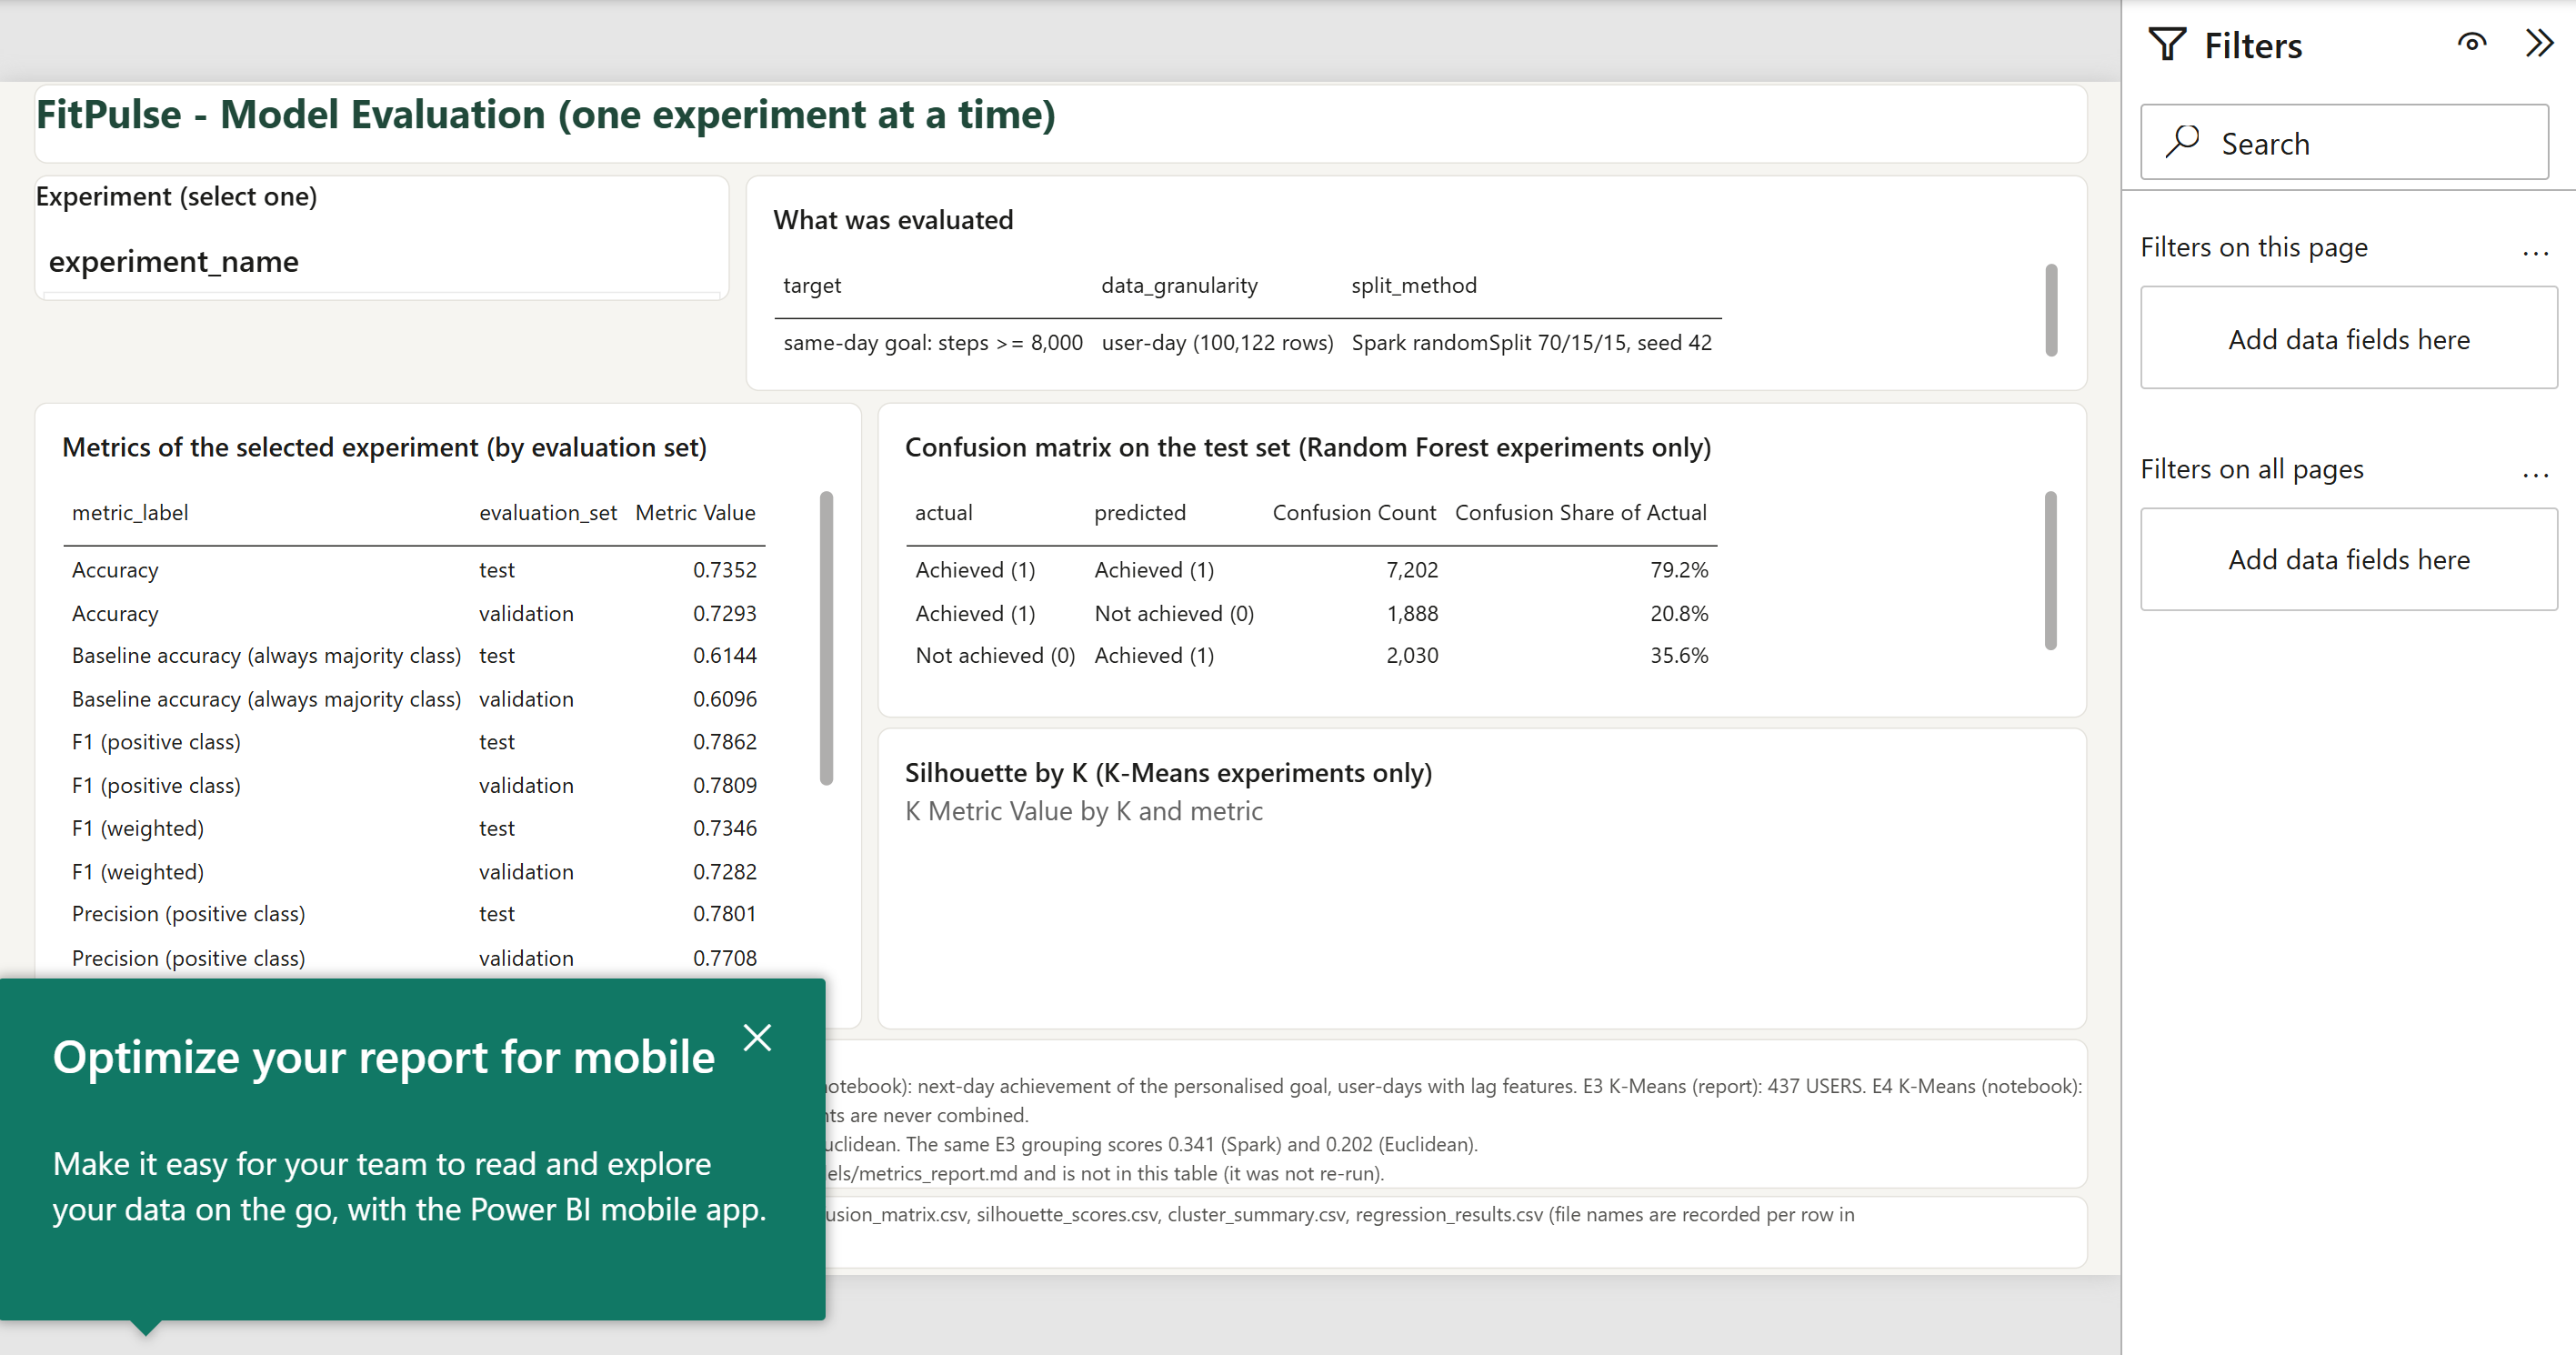

The dashboard page shown, as its layout file describes it:
{"tool":"powerbi","page":{"name":"Model Evaluation","canvas":[1280,720],"ordinal":4},"visuals":[{"type":"textbox","box":[20,2,1240,48],"z":1000},{"type":"slicer","title":"Experiment (select one)","fields":{"Values":["experiments.experiment_name"]},"box":[20,56,420,76],"z":2000},{"type":"tableEx","title":"What was evaluated","fields":{"Values":["experiments.target","experiments.data_granularity","experiments.split_method"]},"box":[450,56,810,130],"z":3000},{"type":"tableEx","title":"Metrics of the selected experiment (by evaluation set)","fields":{"Values":["model_evaluation.metric_label","model_evaluation.evaluation_set","model_evaluation.Metric Value"]},"box":[20,194,500,378],"z":4000},{"type":"tableEx","title":"Confusion matrix on the test set (Random Forest experiments only)","fields":{"Values":["confusion_matrices.actual","confusion_matrices.predicted","confusion_matrices.Confusion Count","confusion_matrices.Confusion Share of Actual"]},"box":[530,194,730,190],"z":5000},{"type":"lineChart","title":"Silhouette by K (K-Means experiments only)","fields":{"Category":["kmeans_k_selection.K"],"Series":["kmeans_k_selection.metric"],"Y":["kmeans_k_selection.K Metric Value"]},"box":[530,390,730,182],"z":6000},{"type":"textbox","box":[20,578,1240,90],"z":7000},{"type":"textbox","box":[20,672,1240,44],"z":8000}]}

Visuals, with their boxes on the page's 1280x720 design canvas (x1, y1, x2, y2). These are canvas units, not pixel positions in the 2576x1355 screenshot, which may show the page scaled, cropped or inside an application window:
textbox: 20, 2, 1260, 50
"Experiment (select one)" slicer: 20, 56, 440, 132
"What was evaluated" tableEx: 450, 56, 1260, 186
"Metrics of the selected experiment (by evaluation set)" tableEx: 20, 194, 520, 572
"Confusion matrix on the test set (Random Forest experiments only)" tableEx: 530, 194, 1260, 384
"Silhouette by K (K-Means experiments only)" lineChart: 530, 390, 1260, 572
textbox: 20, 578, 1260, 668
textbox: 20, 672, 1260, 716
